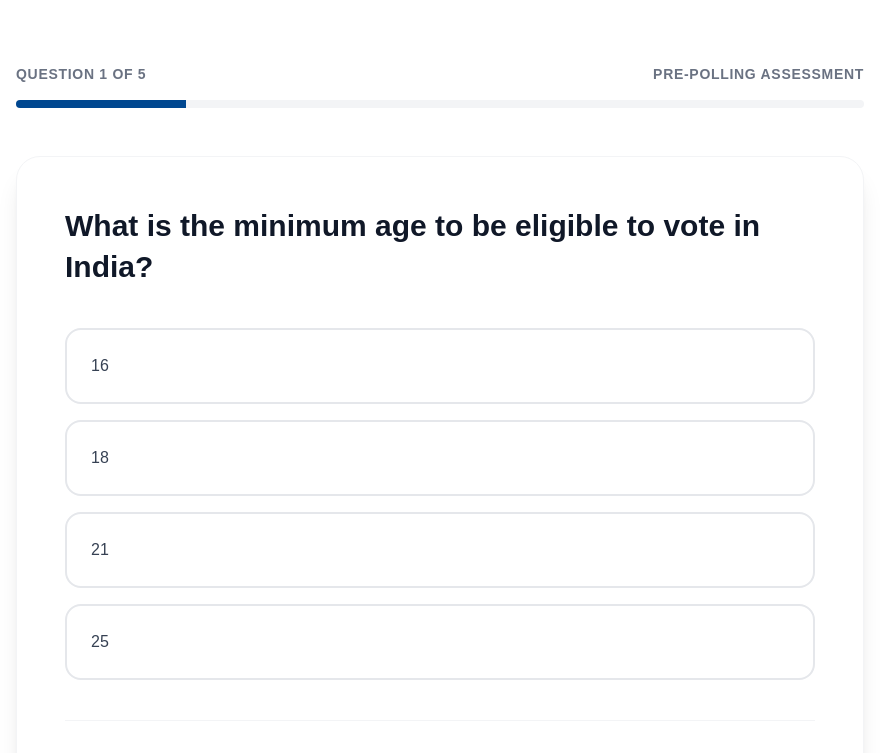
Test: Voter Quiz UI › allows answering a question and validates answer state
The width and height of the screenshot is (881, 753).
Click the correct answer (index 1 which is '18')
Click the button "18".
click(100, 457)  # box top-left (65, 420), bottom-right (815, 496)
(page scrolled)
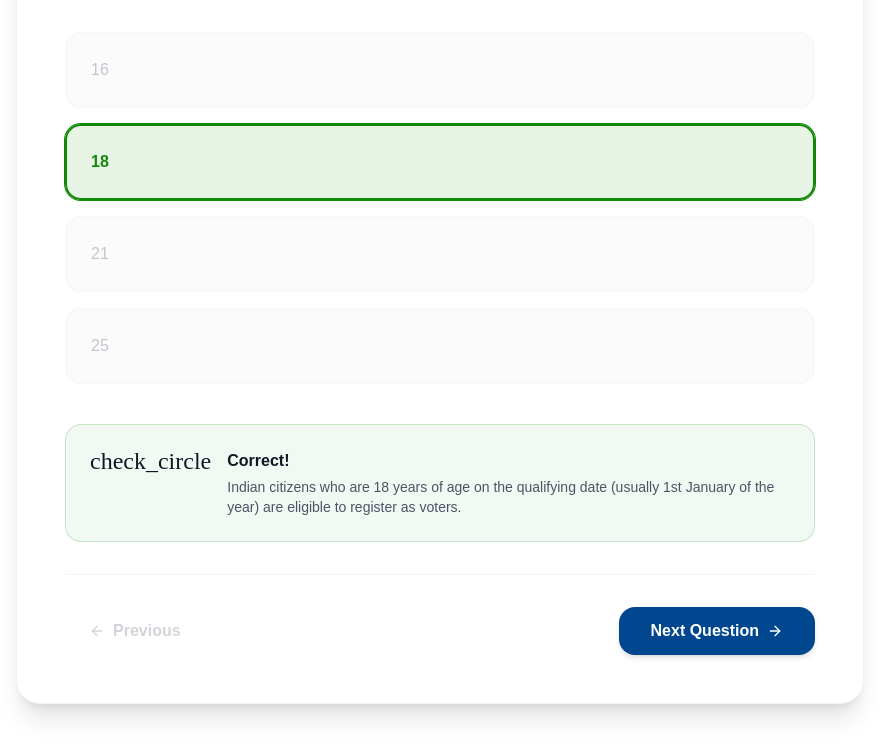
expect the text "Correct!" is shown: met, box top-left (227, 452), bottom-right (290, 468)
expect the button "Next Question" is enabled: met, box top-left (618, 606), bottom-right (815, 654)
